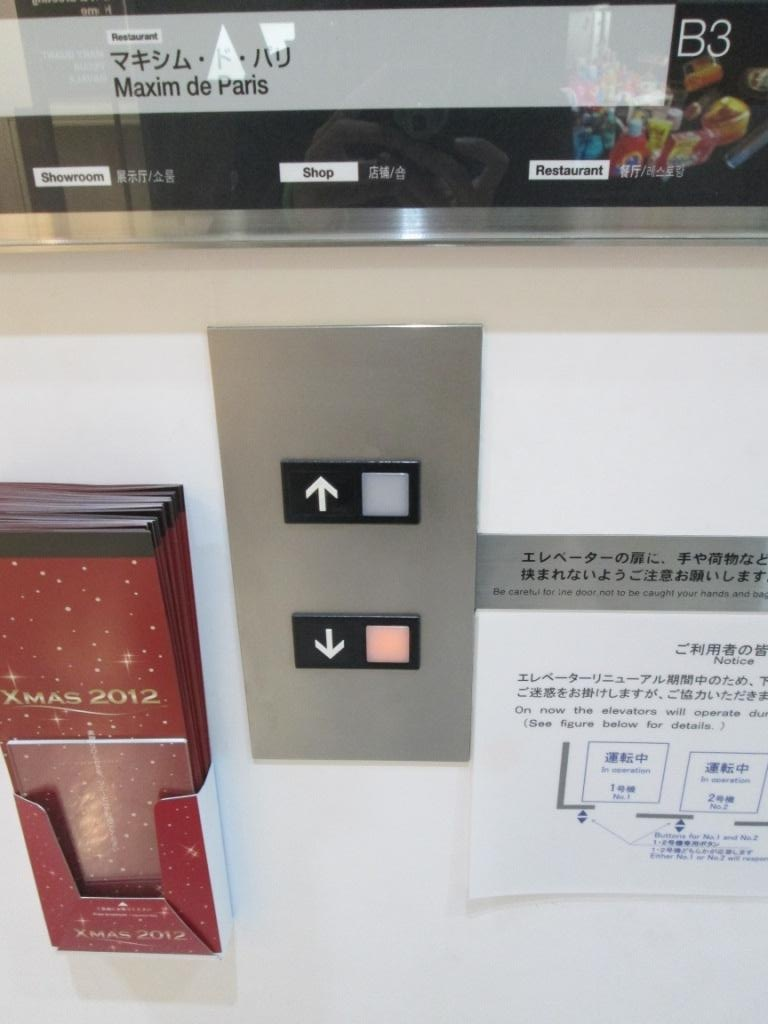down: (286, 609, 426, 674)
up: (276, 454, 424, 528)
